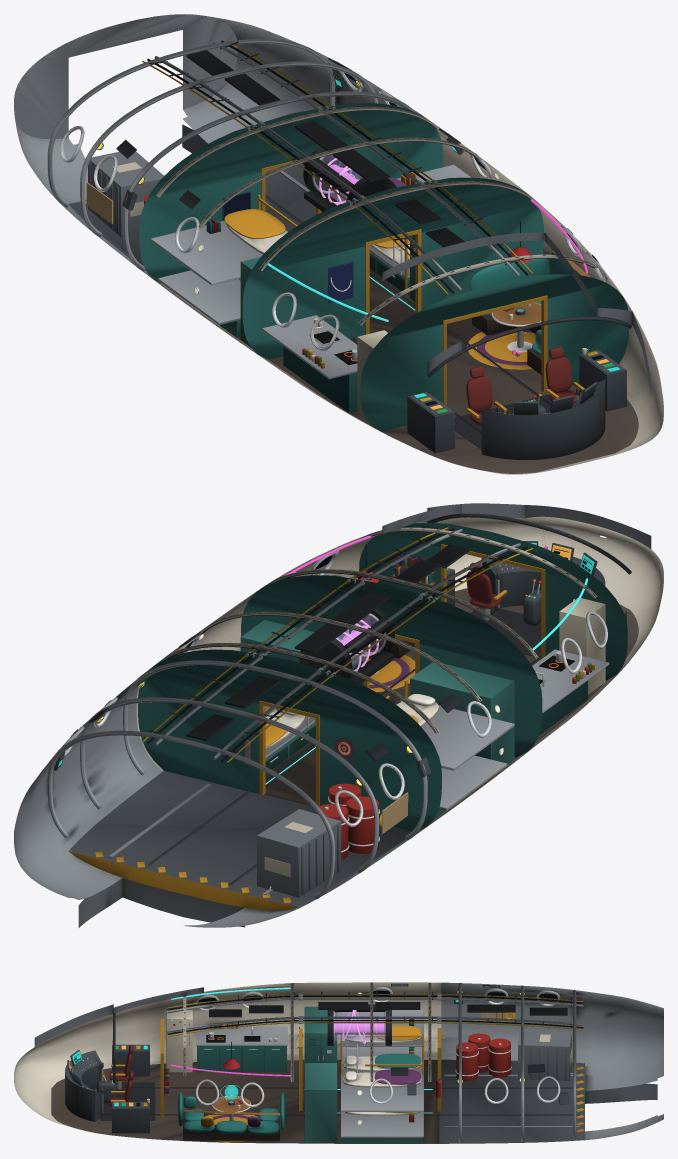
File: vtol_interior.glb
The picture shows the model from 3 angles, top to bottom: view 1: azimuth 30°, elevation 25°; view 2: azimuth 150°, elevation 25°; view 3: azimuth 270°, elevation 25°; orthographic projection. The views are drawn at different scales.
Parts seen in each view (by area): view 1: interior; view 2: interior; view 3: interior.
Boxes of the visible parts, x1,y1,x2,y2 form: interior: (14, 14, 663, 474); interior: (14, 503, 663, 927); interior: (14, 982, 663, 1143).
Size of the model in its own units: 6.96 by 3.91 by 18.76.
